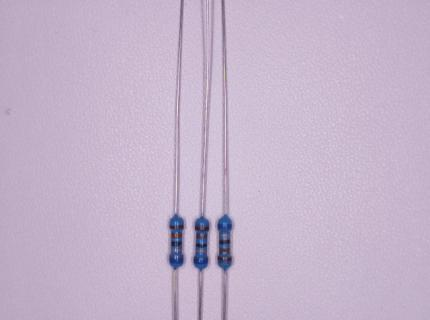Black band: (171, 241, 182, 246), (219, 240, 230, 244), (196, 243, 207, 247)
Blue band: (169, 257, 183, 263), (194, 259, 207, 264), (218, 224, 232, 228)
Brown band: (195, 226, 209, 231), (218, 256, 232, 261), (170, 224, 183, 229)
Grey band: (171, 248, 182, 252), (196, 249, 206, 253), (219, 234, 230, 237)
Orange band: (219, 248, 230, 254), (171, 233, 182, 238), (196, 234, 207, 239)
